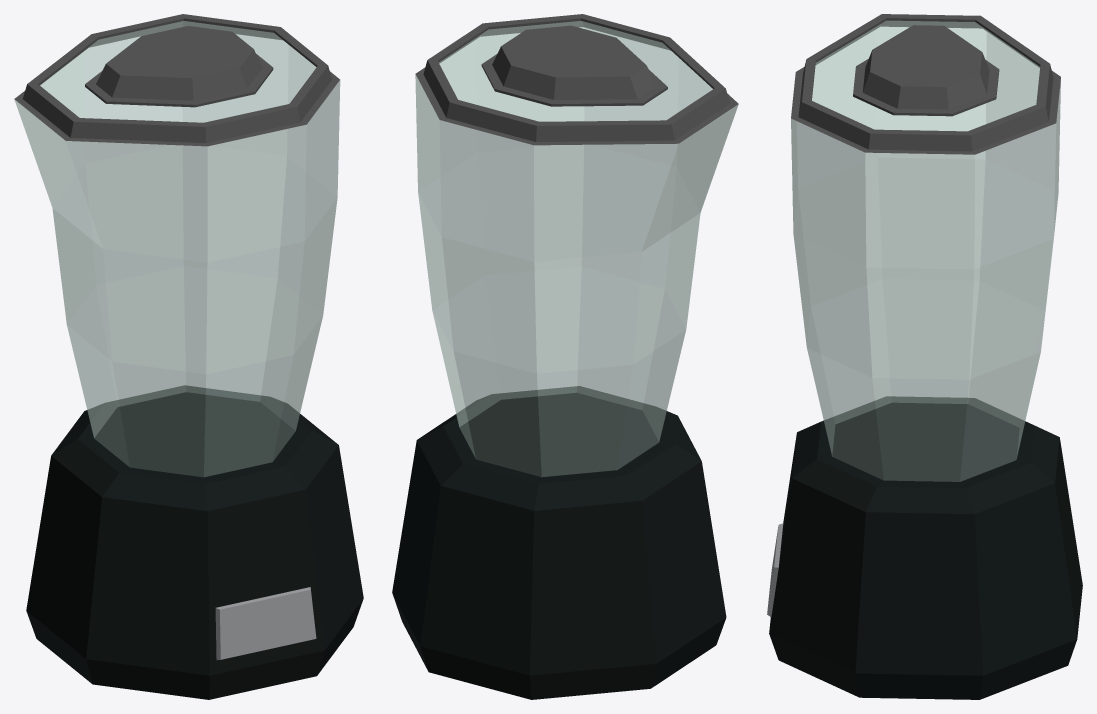
The model's file is blender.fbx.
The picture shows the model from 3 angles, left to right: view 1: azimuth 30°, elevation 25°; view 2: azimuth 150°, elevation 25°; view 3: azimuth 270°, elevation 25°; orthographic projection.
Visible parts, largest first — view 1: Cylinder; view 2: Cylinder; view 3: Cylinder.
Part boxes in pixels (left/top/right/bottom): Cylinder: left=14, top=14, right=363, bottom=699; Cylinder: left=392, top=14, right=738, bottom=699; Cylinder: left=767, top=14, right=1082, bottom=699.
Size of the model in its own units: 43.55 by 82.92 by 41.38.
